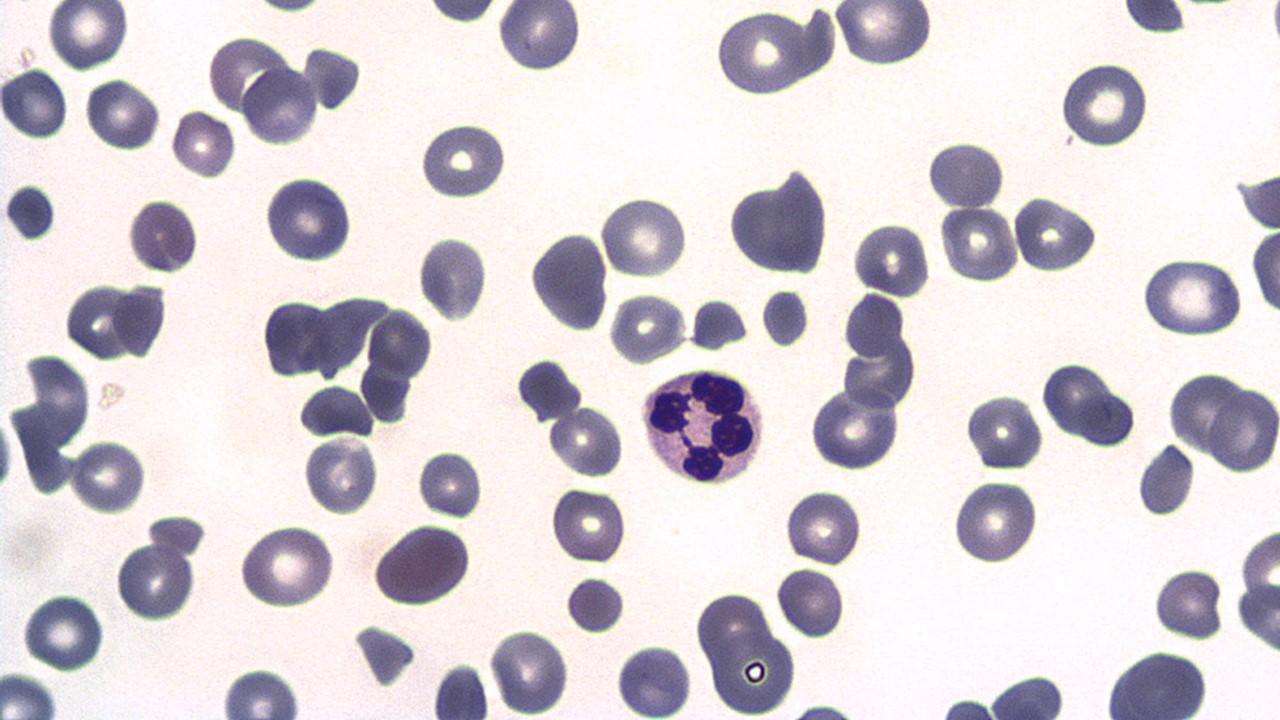Platelets: (416, 119, 509, 198), (114, 539, 200, 620), (416, 234, 490, 322), (494, 3, 582, 74), (124, 197, 202, 276), (924, 138, 1008, 210), (258, 295, 328, 380), (1150, 566, 1226, 640), (65, 280, 132, 362), (774, 566, 846, 637), (217, 664, 308, 717), (512, 355, 583, 422), (416, 449, 483, 518), (111, 282, 170, 358), (1138, 444, 1198, 518), (300, 46, 366, 112), (351, 622, 418, 686), (296, 386, 376, 439), (985, 672, 1073, 718), (562, 574, 626, 635), (2, 183, 60, 245), (432, 660, 490, 718), (760, 286, 810, 350), (423, 0, 502, 32), (1120, 1, 1188, 36), (0, 416, 17, 496), (255, 0, 323, 14), (1265, 0, 1279, 52)
RBC: (275, 0, 670, 322), (370, 521, 476, 608), (1139, 254, 1245, 340), (714, 8, 812, 97), (237, 522, 338, 608), (526, 229, 610, 332), (1057, 59, 1149, 151), (263, 171, 352, 265), (708, 624, 798, 716), (599, 192, 689, 280), (952, 474, 1038, 566), (17, 588, 110, 673), (806, 388, 900, 472), (417, 118, 510, 202), (490, 624, 571, 716), (114, 538, 197, 623), (964, 389, 1045, 474), (1012, 194, 1098, 274), (832, 1, 934, 68), (208, 32, 288, 116), (936, 204, 1020, 284), (549, 482, 628, 566), (302, 432, 379, 517), (1169, 368, 1245, 454), (784, 485, 862, 568), (851, 219, 931, 299), (496, 0, 582, 74), (242, 63, 318, 146), (126, 193, 201, 276), (69, 436, 146, 516), (46, 0, 130, 73), (1209, 387, 1277, 476), (546, 402, 624, 479), (613, 642, 694, 716), (924, 136, 1006, 209), (84, 76, 160, 154), (608, 290, 688, 364), (695, 590, 771, 666), (63, 280, 132, 363), (1152, 562, 1224, 641), (776, 563, 846, 640), (1, 64, 69, 142), (367, 302, 434, 381), (212, 664, 311, 716), (416, 446, 484, 520), (170, 107, 237, 181), (296, 382, 377, 440), (844, 290, 906, 360), (562, 572, 630, 635), (1240, 524, 1280, 612), (690, 295, 749, 353), (758, 286, 811, 350), (432, 660, 490, 718), (0, 668, 61, 718), (1252, 216, 1280, 321), (1238, 580, 1280, 650), (940, 694, 1002, 718)
WBC: (638, 362, 770, 490), (724, 163, 832, 277), (370, 519, 472, 609), (528, 226, 610, 335), (1102, 648, 1216, 718), (614, 639, 694, 718), (125, 194, 200, 276), (260, 295, 330, 381), (63, 279, 132, 361), (296, 382, 375, 440), (111, 283, 168, 362), (986, 672, 1073, 718), (1250, 210, 1280, 324), (433, 660, 490, 718)
